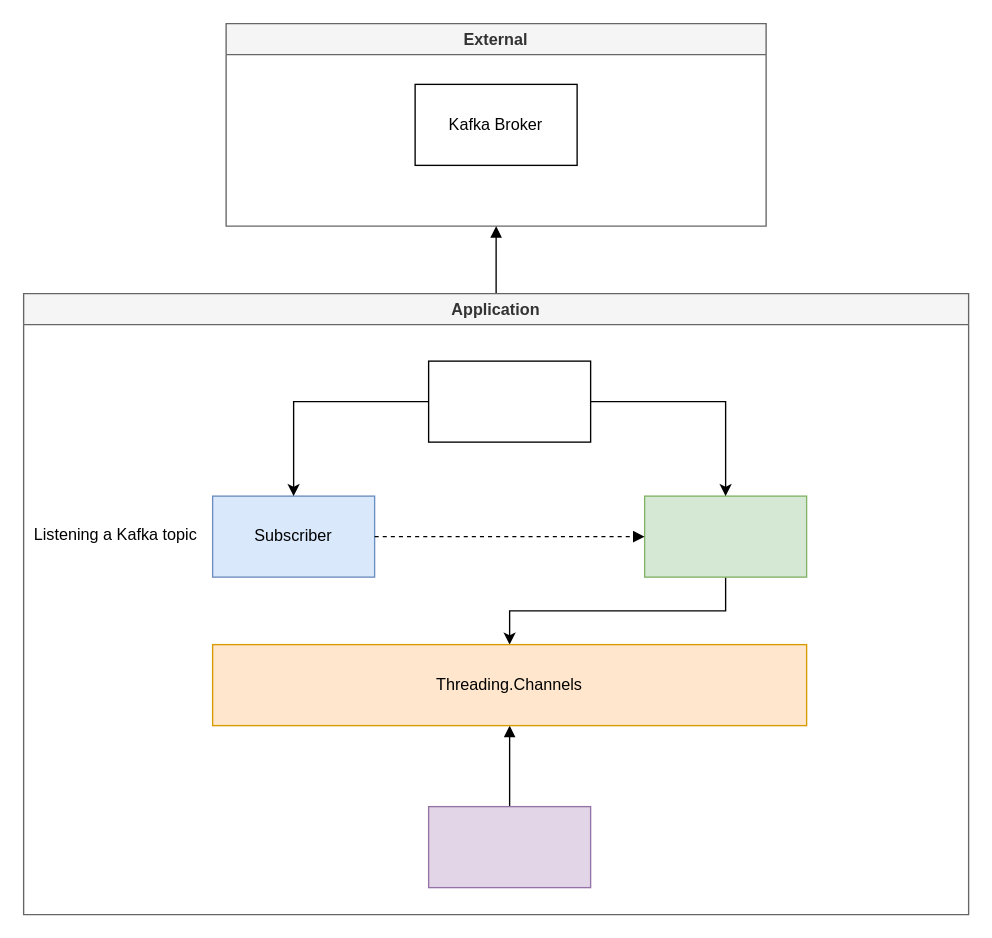
This 992x938 diagram has some shape labels left out. The shapes that lost their labels are listed below. From the top down, each one's box as (x1, y1, x2, y2) in pixels, then its label:
(427, 360, 591, 442): Background Service
(643, 495, 807, 577): Producer
(427, 805, 591, 888): Consumers
